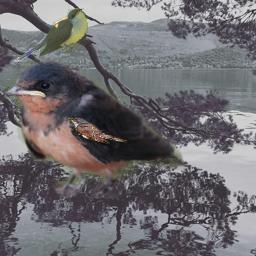Cuckoo: (12, 8, 88, 62), (67, 116, 128, 146)
Swallow: (4, 59, 186, 198)
